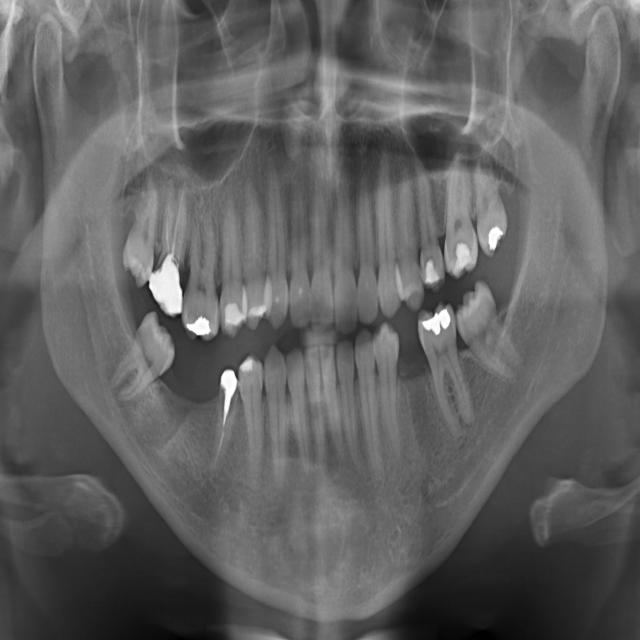3M ESPE Implant: (112, 163, 180, 293)
AGS Medikal Implant: (353, 151, 379, 327)
AMerOss Implant: (366, 142, 403, 321)
Amalgam filling: (384, 155, 427, 315)
Anthogyr Implant: (406, 146, 448, 298)
Bicon Implant: (430, 147, 483, 283)
BioHorizons Implant: (465, 137, 514, 262)
Biomet 3i Implant: (440, 273, 534, 396)
Camlog Implant: (411, 296, 479, 449)
Caries: (153, 269, 154, 270)
Cowellmedi Implant: (372, 319, 411, 469)
Crown: (352, 327, 386, 485)
DENTSPLY Implant: (334, 338, 364, 474)
Dentatus Implant: (318, 342, 347, 463)
Dentis Implant: (304, 345, 327, 474)
Dentium Implant: (285, 346, 312, 482)
Euroteknika Implant: (263, 339, 290, 498)
Filling: (236, 348, 268, 496)
Frontier Implant: (206, 365, 243, 481)
Hiossen Implant: (176, 202, 221, 343)
Keystone Dental Implant: (100, 305, 193, 417)
MIS Implant: (217, 182, 245, 340)
Mandible: (243, 172, 266, 332)
Maxilla: (264, 145, 289, 333)
Megagen Implant: (286, 170, 310, 332)
Neodent Implant: (306, 159, 334, 327)
Neoss Implant: (330, 151, 358, 337)
